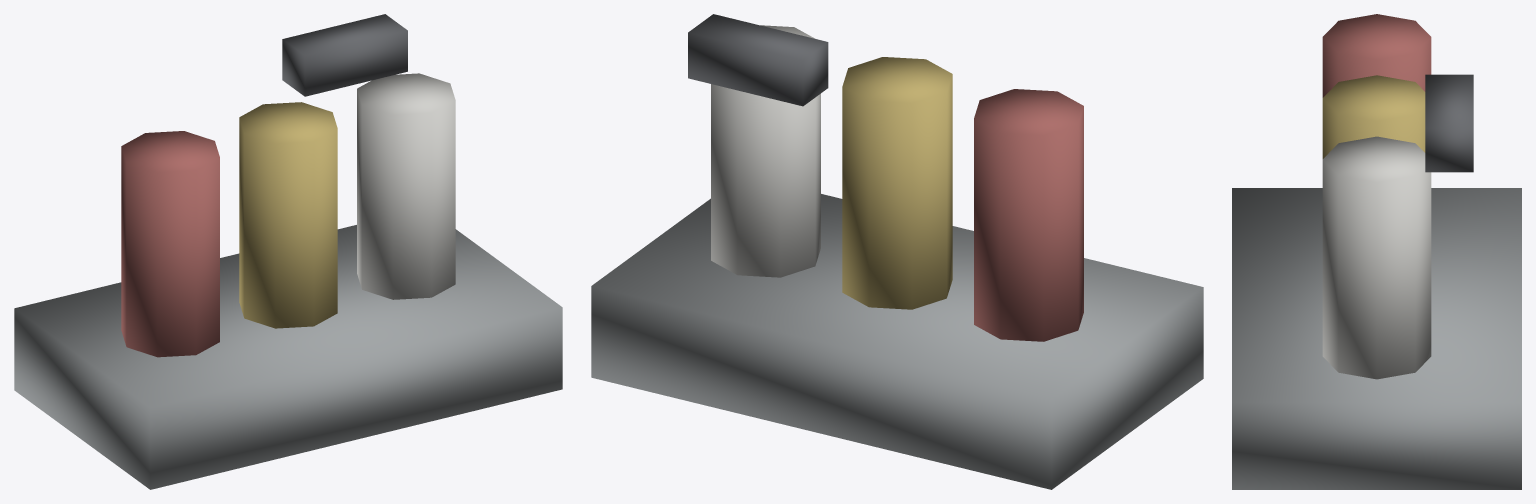
The model's file is condiment_station__service.glb.
The picture shows the model from 3 angles, left to right: view 1: azimuth 30°, elevation 25°; view 2: azimuth 150°, elevation 25°; view 3: azimuth 270°, elevation 25°; orthographic projection. The views are drawn at different scales.
Parts seen in each view (by area): view 1: world; view 2: world; view 3: world.
Part boxes in pixels (x1,y1,x2,y2): world: (14, 14, 562, 489); world: (591, 14, 1203, 489); world: (1232, 14, 1521, 489).
Size of the model in its own units: 0.42 by 0.3 by 0.24.
